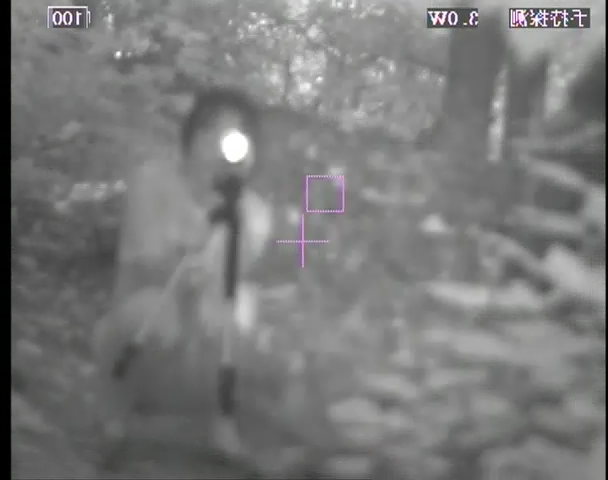my: (220, 128, 251, 162)
